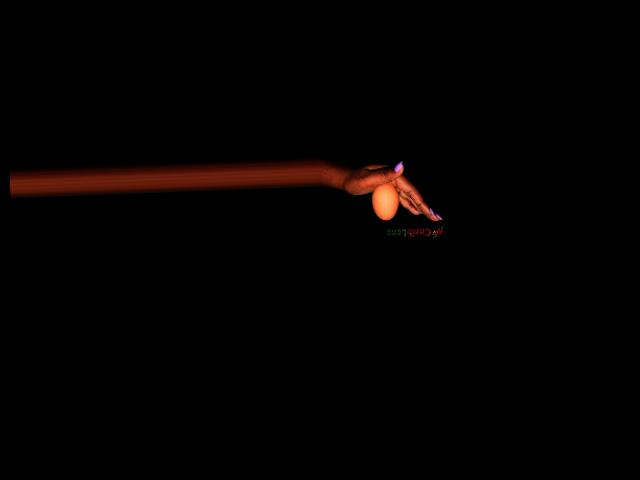egg: (370, 183, 399, 221)
